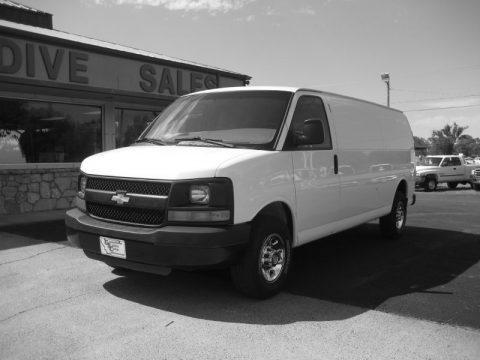car: (65, 83, 420, 305)
